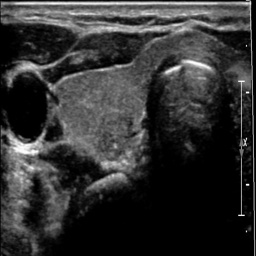mass: (93, 109, 133, 161)
